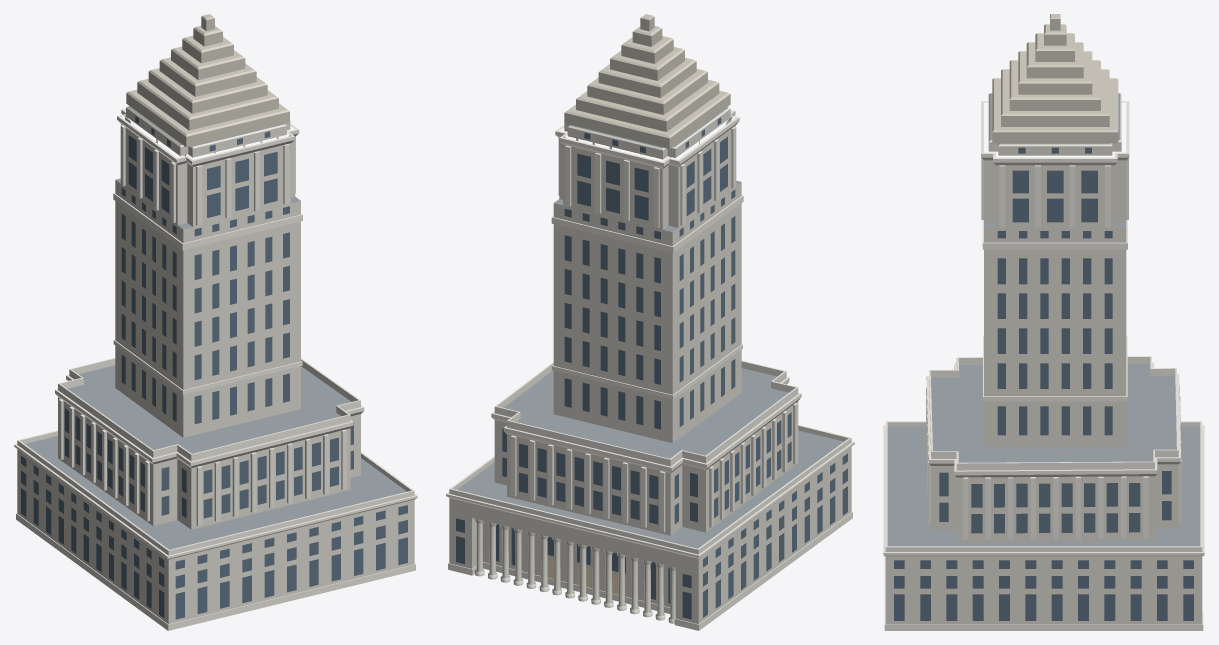
The model's file is mia-dade-county-courthouse.glb.
3 views of the same model, side by side, from view 1: azimuth 30°, elevation 25°; view 2: azimuth 150°, elevation 25°; view 3: azimuth 270°, elevation 25° (orthographic). The views are drawn at different scales.
Parts seen in each view (by area): view 1: Miami-Dade County Courthouse; view 2: Miami-Dade County Courthouse; view 3: Miami-Dade County Courthouse.
Part boxes in pixels (x1=…): Miami-Dade County Courthouse: x1=14, y1=14, x2=417, y2=630; Miami-Dade County Courthouse: x1=446, y1=14, x2=854, y2=630; Miami-Dade County Courthouse: x1=883, y1=14, x2=1204, y2=630.
Size of the model in its own units: 51 by 102 by 54.2.
